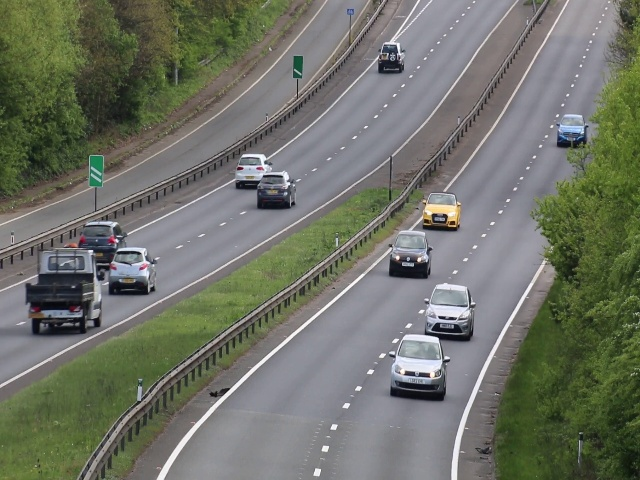car: (23, 248, 104, 334), (392, 336, 447, 399), (107, 245, 158, 296), (426, 286, 476, 337), (389, 230, 431, 277), (256, 170, 297, 210), (423, 191, 461, 231), (79, 217, 120, 249), (233, 152, 264, 188), (557, 111, 585, 150), (377, 41, 405, 74)
